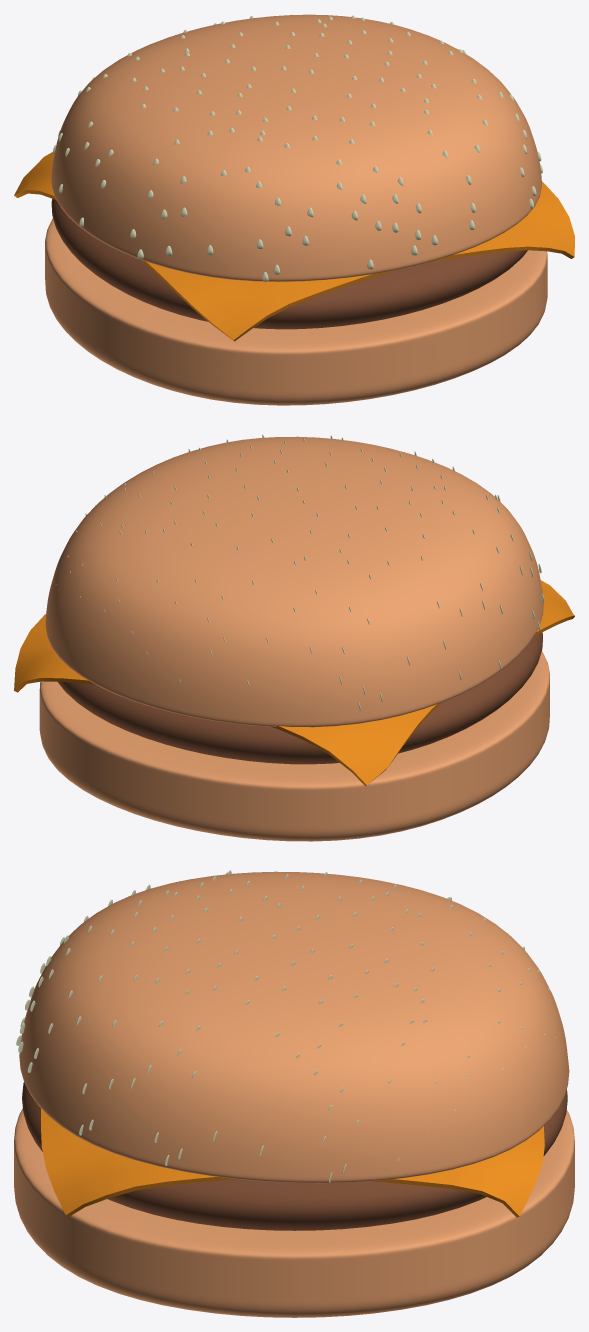
File: hamburger.glb
The picture shows the model from 3 angles, top to bottom: view 1: azimuth 30°, elevation 25°; view 2: azimuth 150°, elevation 25°; view 3: azimuth 270°, elevation 25°; orthographic projection. The views are drawn at different scales.
Parts seen in each view (by area): view 1: topbun, bottombun, burger, cheese; view 2: topbun, bottombun, burger, cheese; view 3: topbun, bottombun, burger, cheese.
Boxes of the visible parts, x1,y1,x2,y2 form: topbun: (51, 14, 541, 281); bottombun: (45, 218, 547, 405); burger: (51, 199, 527, 329); cheese: (14, 152, 574, 341); topbun: (45, 436, 543, 727); bottombun: (39, 651, 549, 841); burger: (57, 632, 542, 764); cheese: (14, 580, 574, 786); topbun: (19, 871, 569, 1183); bottombun: (14, 1108, 574, 1317); burger: (22, 1082, 567, 1230); cheese: (41, 1108, 544, 1217).
Size of the model in its own units: 8.98 by 5.17 by 8.98.
